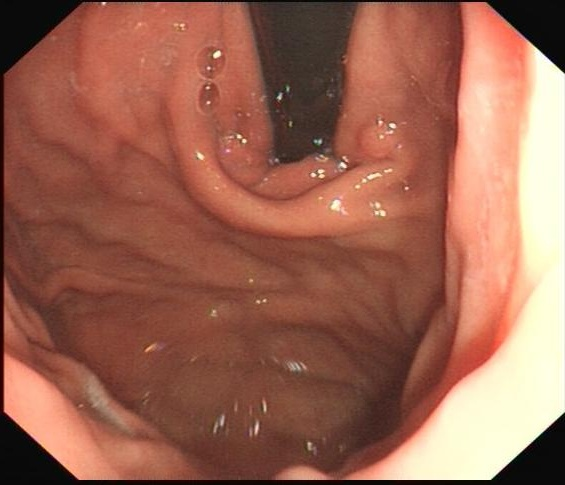Polyp: (343, 106, 411, 174)
